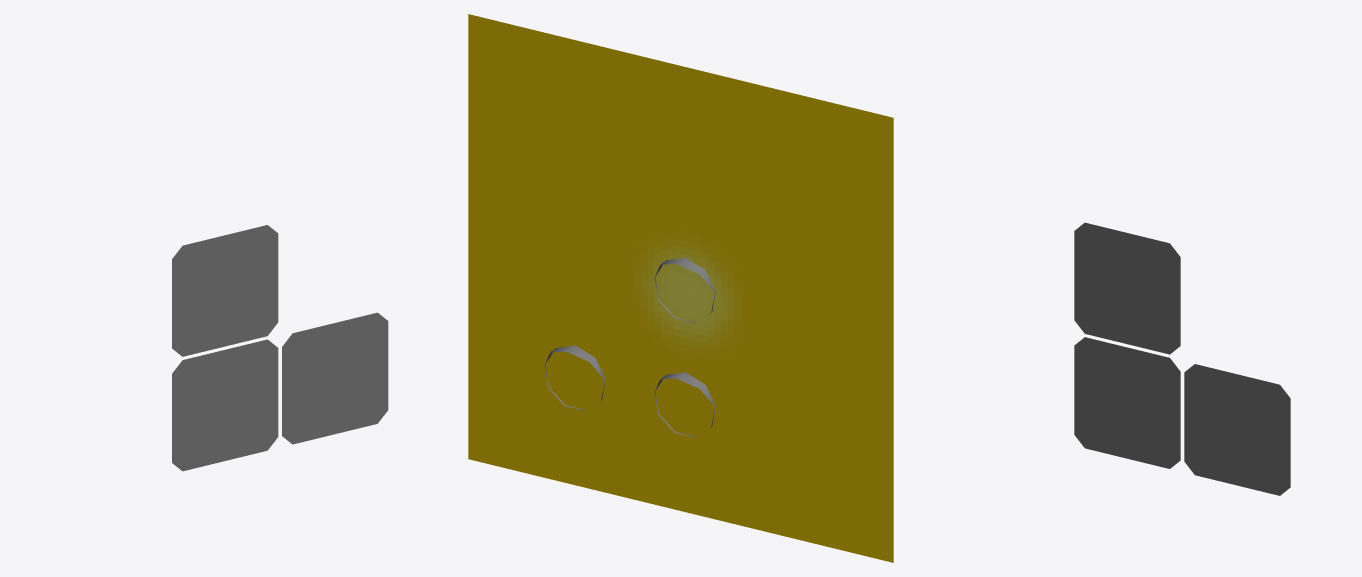
File: SIGNAL_YOKOKU.glb
The picture shows the model from 3 angles, left to right: view 1: azimuth 30°, elevation 25°; view 2: azimuth 150°, elevation 25°; view 3: azimuth 330°, elevation 25°; orthographic projection.
Visible parts, largest first — view 1: obj5, obj1; view 2: light01, obj5, obj1; view 3: obj5, obj1.
Part boxes in pixels (x1,y1,x2,y2): obj5: (172,312,388,471); obj1: (172,225,278,356); light01: (468,14,893,562); obj5: (544,345,715,437); obj1: (654,257,715,322); obj5: (1074,337,1290,495); obj1: (1074,222,1180,354).
Bounding box in the file's own units: 6 × 6 × 0.2868.
Materials: 3 (1 with a texture image).
